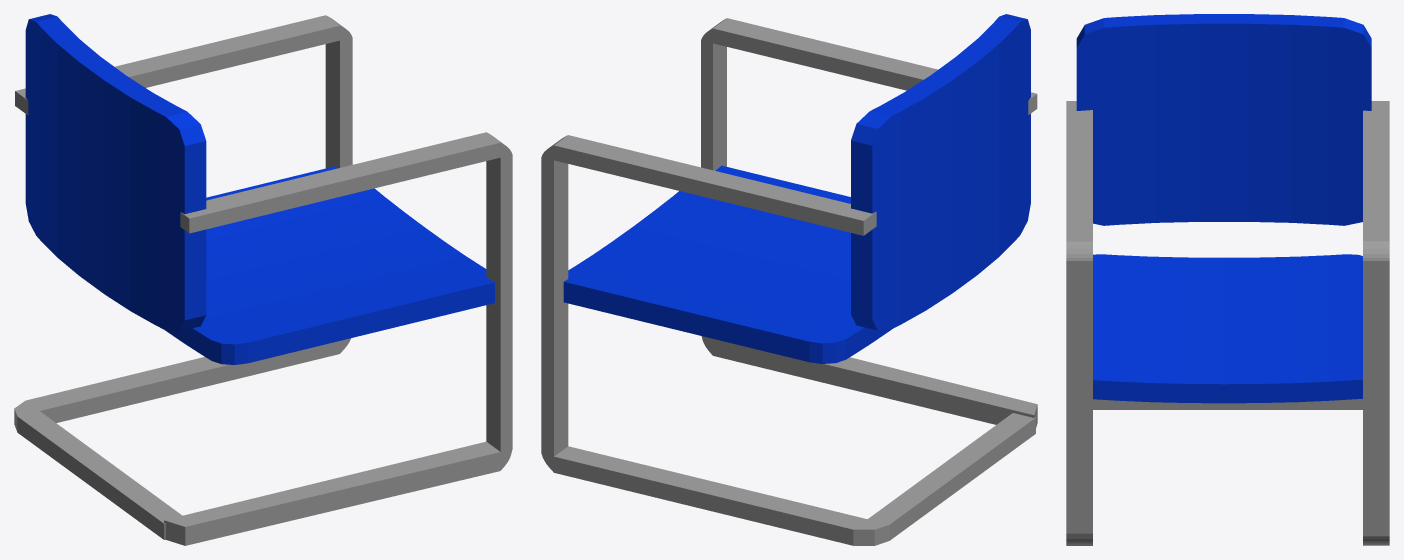
Rendered from HospitalChair.fbx.
3 views of the same model, side by side, from view 1: azimuth 30°, elevation 25°; view 2: azimuth 150°, elevation 25°; view 3: azimuth 270°, elevation 25° (orthographic). The views are drawn at different scales.
Visible parts, largest first — view 1: Cube.003, Cube, Cube.001; view 2: Cube.003, Cube, Cube.001; view 3: Cube, Cube.001, Cube.003.
Part boxes in pixels (x1,y1,x2,y2): Cube.003: (14, 15, 512, 545); Cube: (25, 14, 206, 331); Cube.001: (165, 166, 494, 364); Cube.003: (541, 18, 1037, 545); Cube: (851, 14, 1030, 330); Cube.001: (563, 165, 891, 363); Cube: (1076, 14, 1371, 225); Cube.001: (1093, 254, 1362, 403); Cube.003: (1066, 101, 1389, 545).
Bounding box in the file's own units: 627 × 743 × 564.
